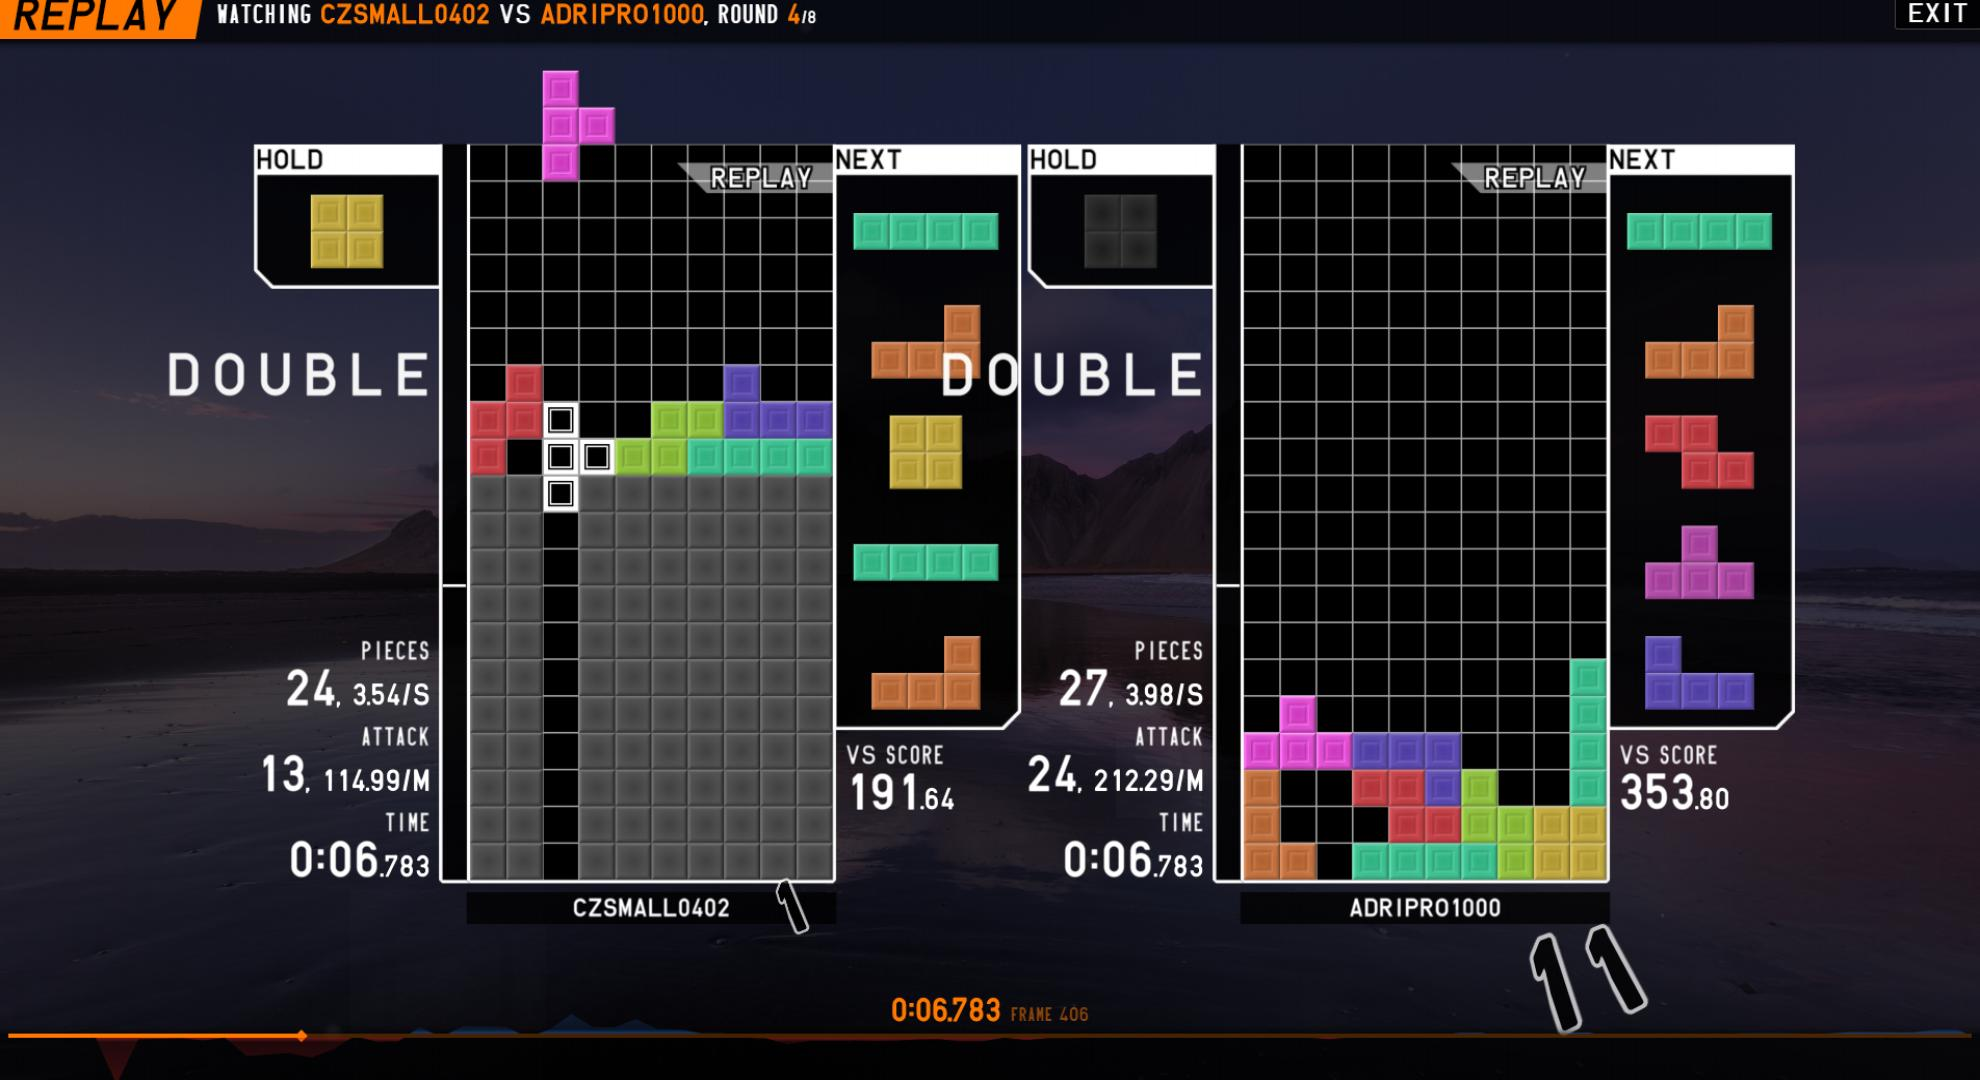tspin: (1274, 761, 1396, 886), (499, 399, 626, 519)
